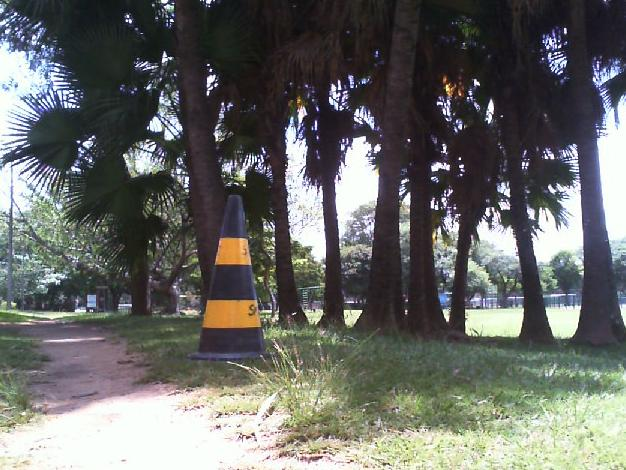0 cone: (188, 195, 274, 360)
